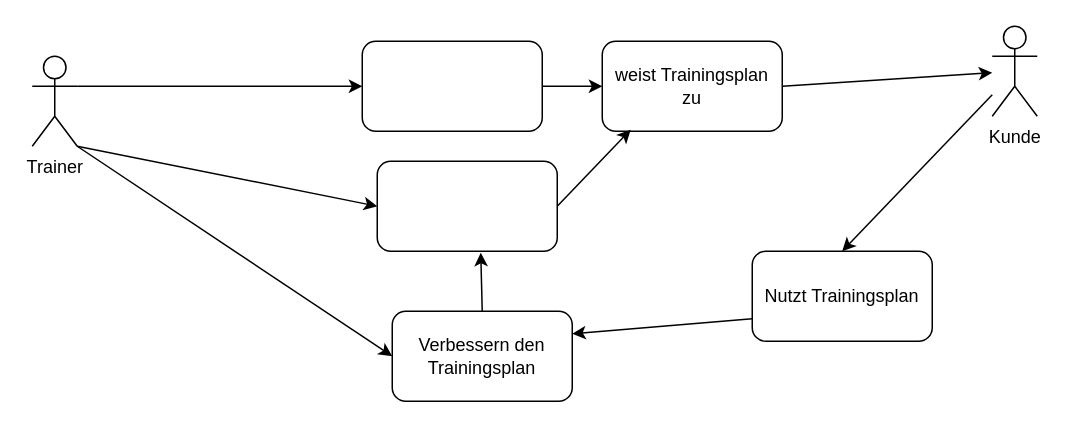
The diagram is 1067 pixels wide and 428 high, and some of its shapes have lost their labels. Each missing label, with the centre of its shape:
"bearbeitet Trainingsplan" belongs at (x=466, y=205).
"erstellt Trainingsplan" belongs at (x=451, y=85).
